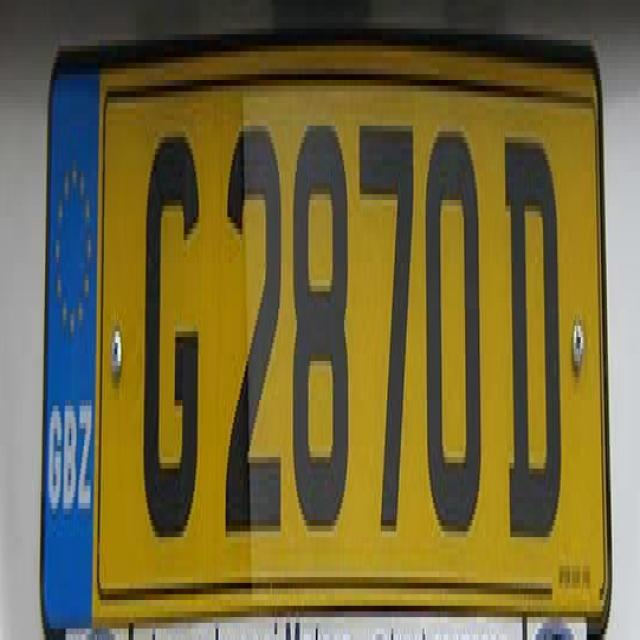Autre: (42, 67, 611, 630)
